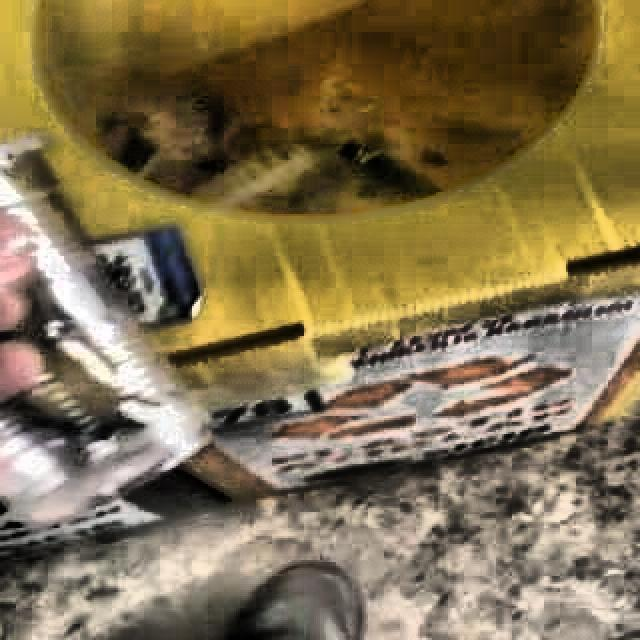plastic: (0, 146, 216, 531)
